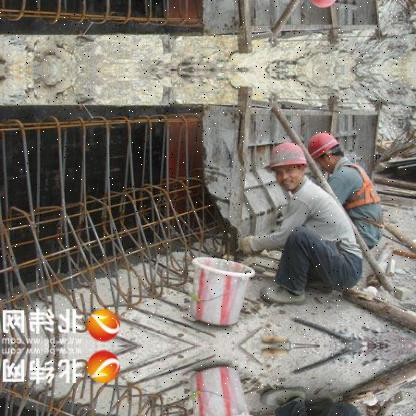helmet: (267, 139, 314, 190), (307, 127, 347, 168), (306, 0, 347, 10)
